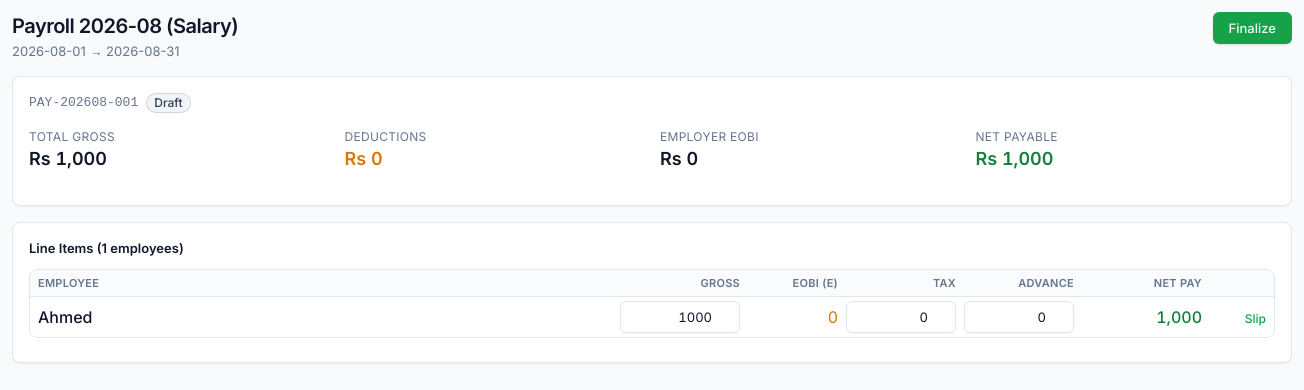
it: PayrollRunDetailPage — inline line-item grid › does not corrupt Gross to 0 on an in-progress decimal keystroke, and stays undirtied
Expected: the text "Ahmed" is shown, [38, 307, 92, 327]
Clear the 1st number field: (680, 317) [620, 301, 740, 333]
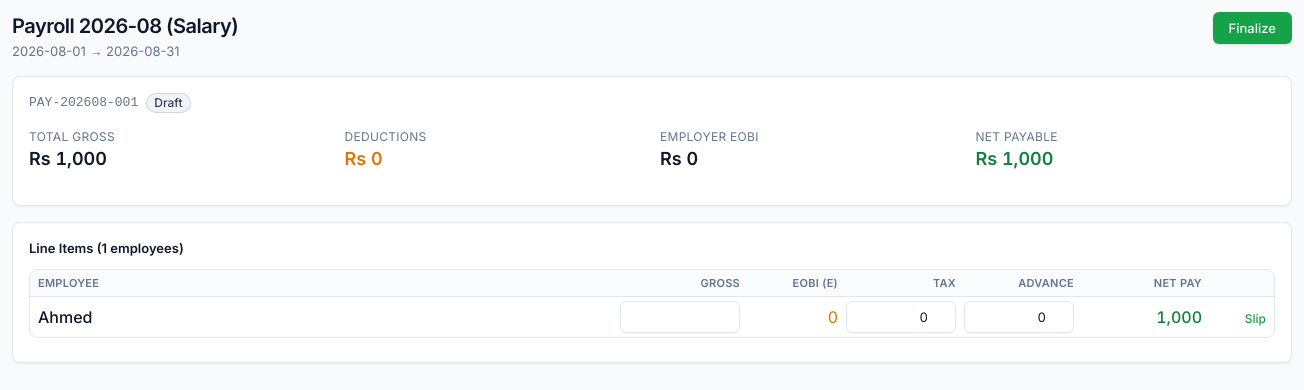
Expected: the button "save changes" is not shown
Expected: the text "1,000" is shown, [1156, 307, 1202, 327]
In the 1st number field: (680, 317) [620, 301, 740, 333], type "1000.5"
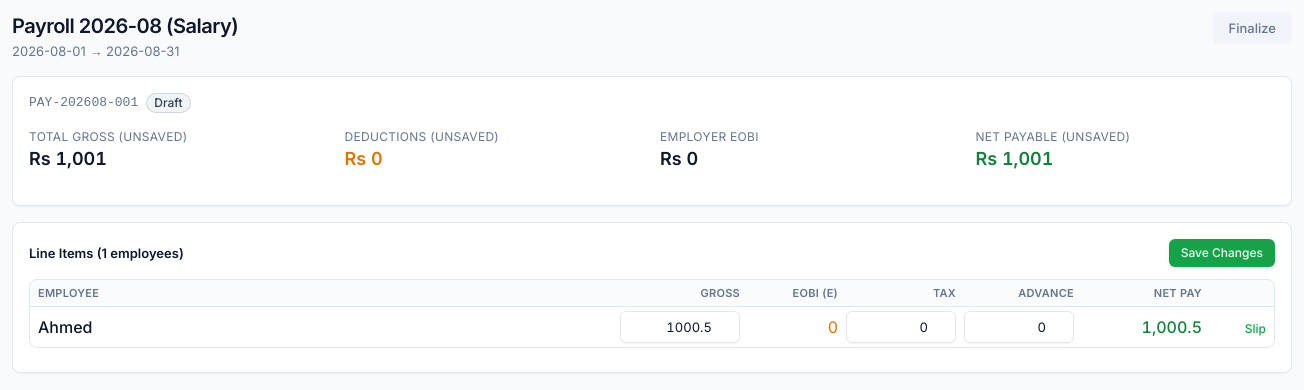
Result: the button "Save Changes" is shown at [1169, 239, 1275, 267]
